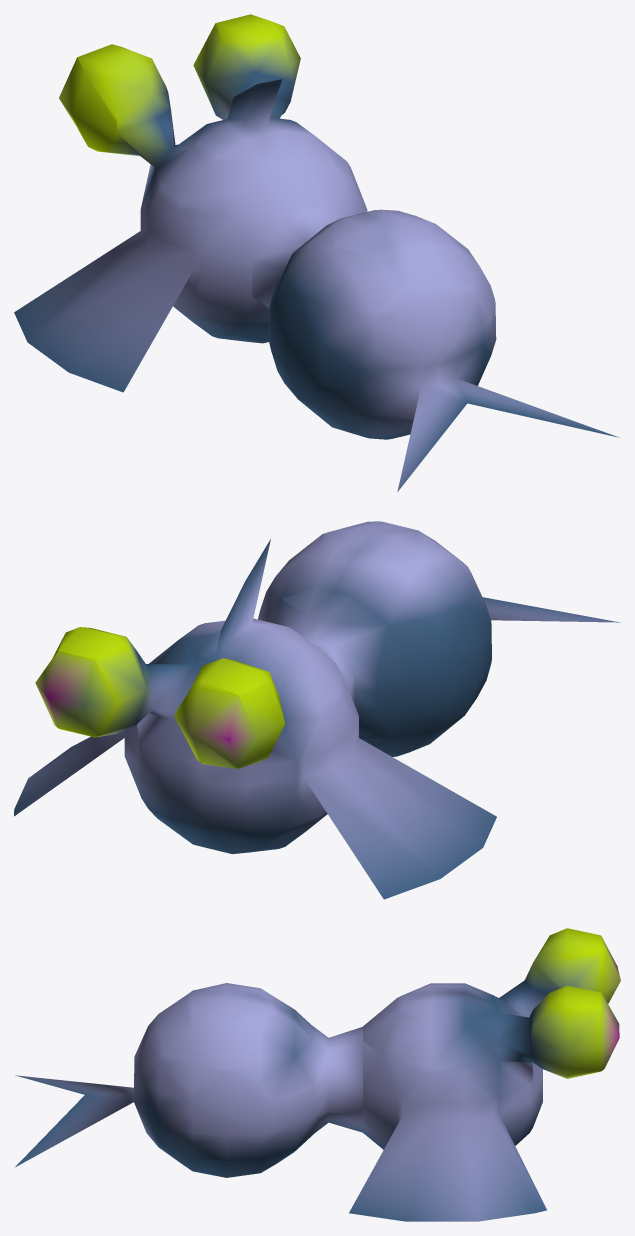
The model's file is dolphin.glb.
3 views of the same model, one above another, from view 1: azimuth 30°, elevation 25°; view 2: azimuth 150°, elevation 25°; view 3: azimuth 270°, elevation 25° (orthographic). The views are drawn at different scales.
Visible parts, largest first — view 1: Dolphin; view 2: Dolphin; view 3: Dolphin.
Part boxes in pixels (bbox=[...]): Dolphin: bbox=[14, 14, 619, 491]; Dolphin: bbox=[14, 521, 620, 899]; Dolphin: bbox=[15, 928, 620, 1221].
Bounding box in the file's own units: 1.62 × 1.06 × 2.5.
